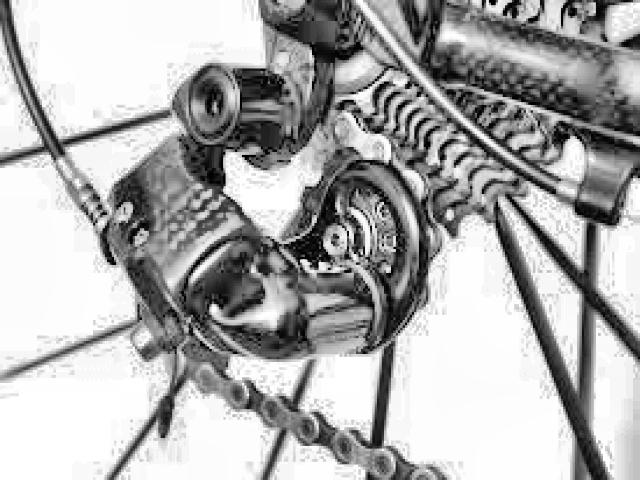rear_derailleur: (79, 51, 445, 400)
